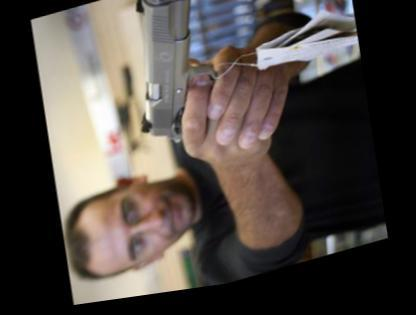pistol: (118, 0, 226, 163)
